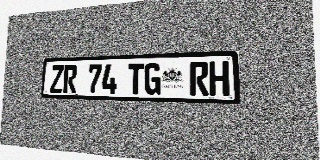4: (102, 64, 117, 94)
7: (87, 64, 102, 94)
G: (144, 63, 161, 95)
H: (209, 61, 229, 96)
R: (190, 61, 209, 96), (63, 65, 77, 93)
T: (128, 63, 144, 94)
Z: (50, 65, 64, 93)
